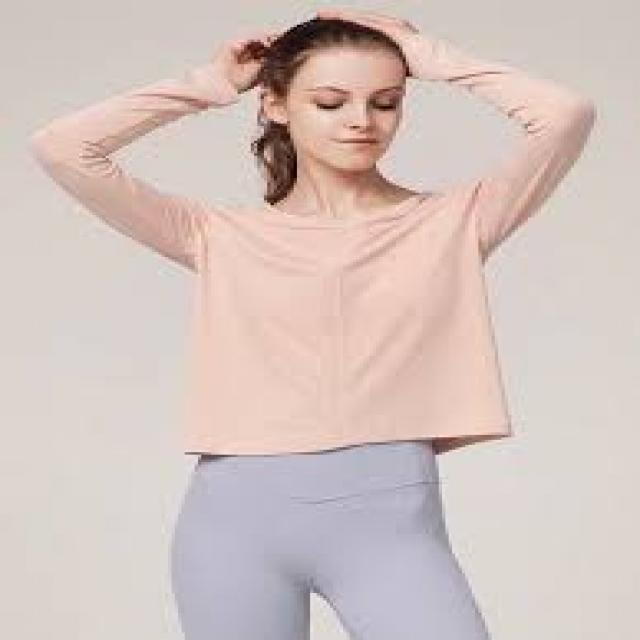plain: (161, 170, 517, 462)
